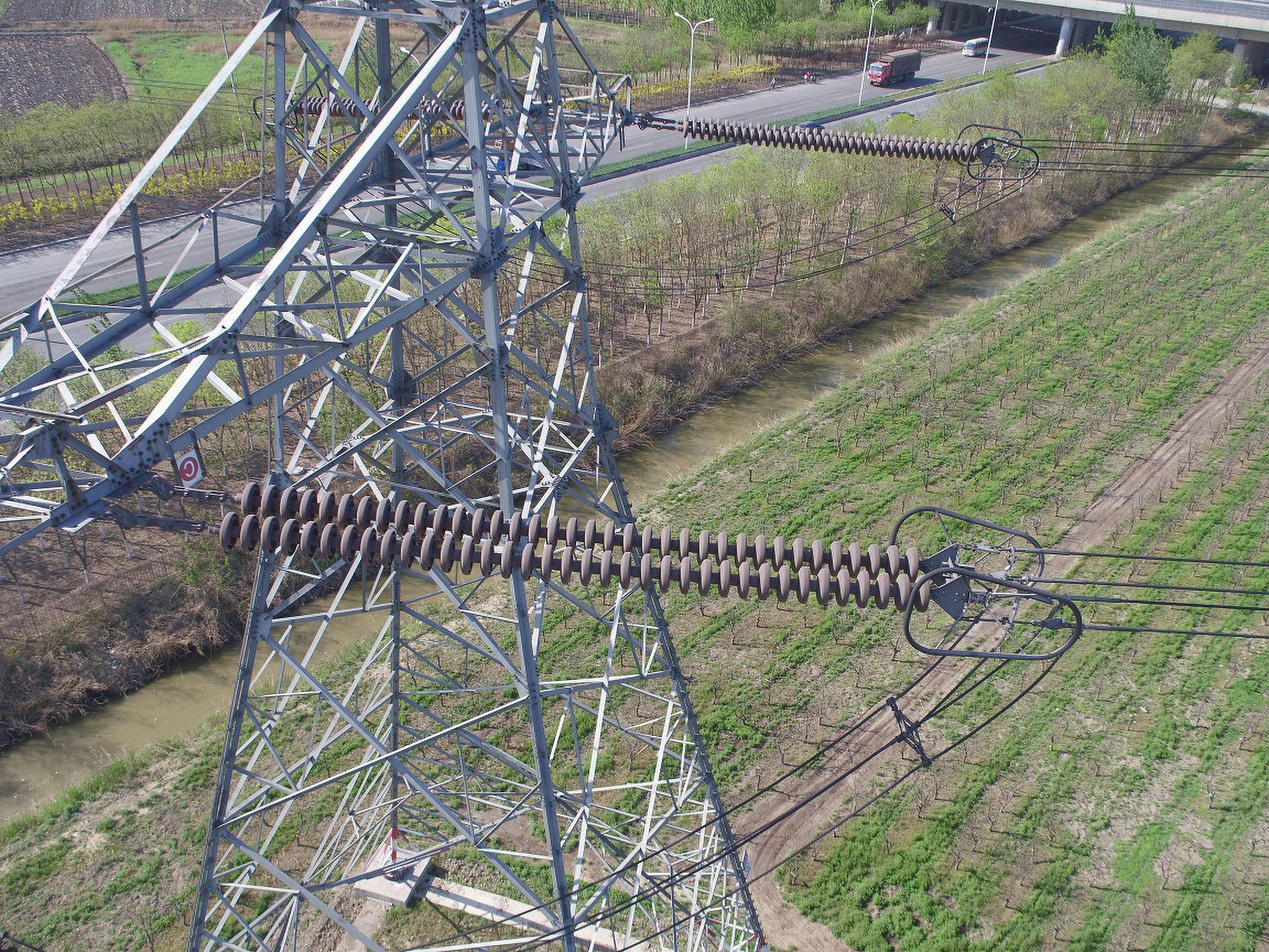insulator: (213, 478, 936, 616), (679, 113, 980, 165), (289, 95, 506, 122)
